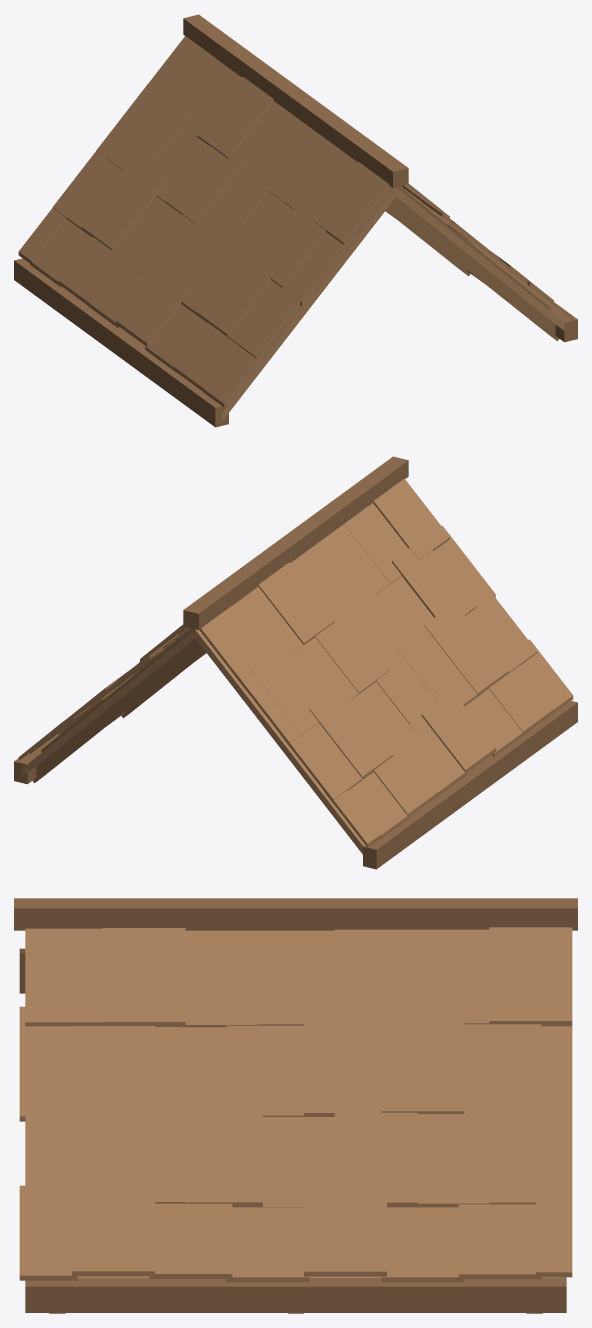
The model's file is building-roof.glb.
3 views of the same model, one above another, from view 1: azimuth 30°, elevation 25°; view 2: azimuth 150°, elevation 25°; view 3: azimuth 270°, elevation 25° (orthographic). The views are drawn at different scales.
Parts seen in each view (by area): view 1: Roof_Surface, Roof_Trim; view 2: Roof_Surface, Roof_Trim; view 3: Roof_Surface, Roof_Trim.
Part boxes in pixels (bbox=[...]): Roof_Surface: bbox=[18, 36, 573, 420]; Roof_Trim: bbox=[14, 14, 577, 427]; Roof_Surface: bbox=[18, 478, 573, 854]; Roof_Trim: bbox=[14, 456, 577, 869]; Roof_Surface: bbox=[19, 927, 572, 1282]; Roof_Trim: bbox=[14, 898, 577, 1313].
Size of the model in its own units: 3.49 by 2.05 by 3.5.
